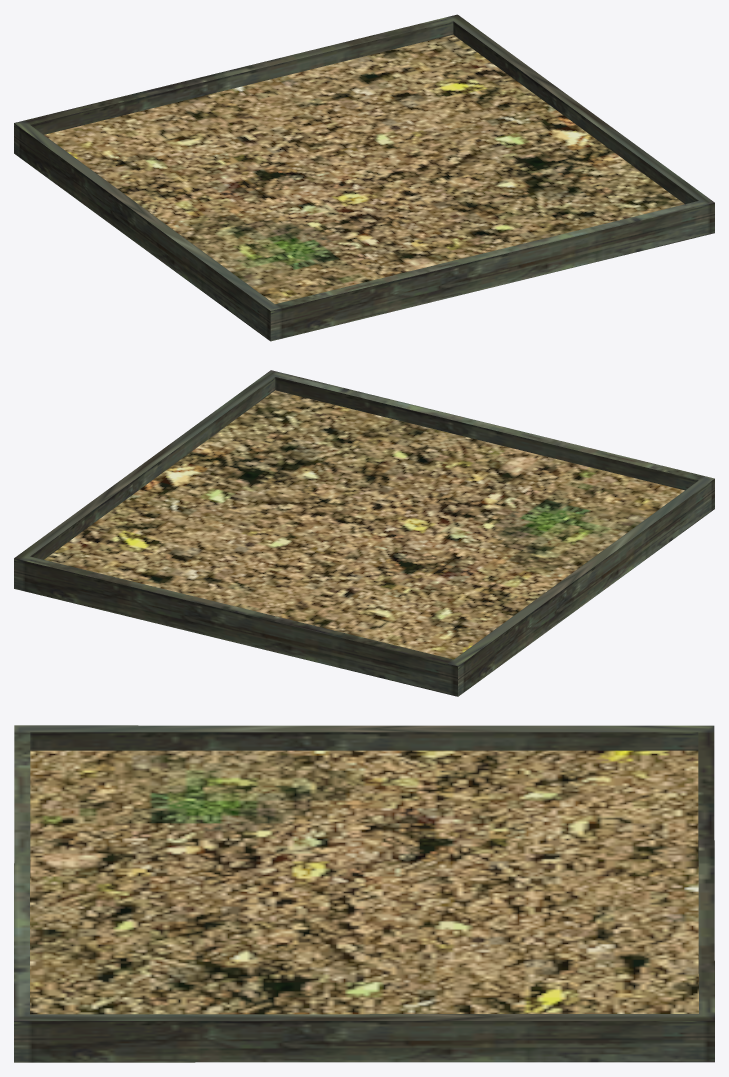
Rendered from building_gardeners_garden.glb.
3 views of the same model, one above another, from view 1: azimuth 30°, elevation 25°; view 2: azimuth 150°, elevation 25°; view 3: azimuth 270°, elevation 25° (orthographic). The views are drawn at different scales.
Parts seen in each view (by area): view 1: building_gardeners_garden; view 2: building_gardeners_garden; view 3: building_gardeners_garden.
Part boxes in pixels (x1=…): building_gardeners_garden: x1=14, y1=14, x2=714, y2=341; building_gardeners_garden: x1=14, y1=370, x2=714, y2=696; building_gardeners_garden: x1=14, y1=725, x2=714, y2=1062.
Size of the model in its own units: 4.1 by 0.2686 by 4.11.
Materials: 2 (2 with a texture image).
